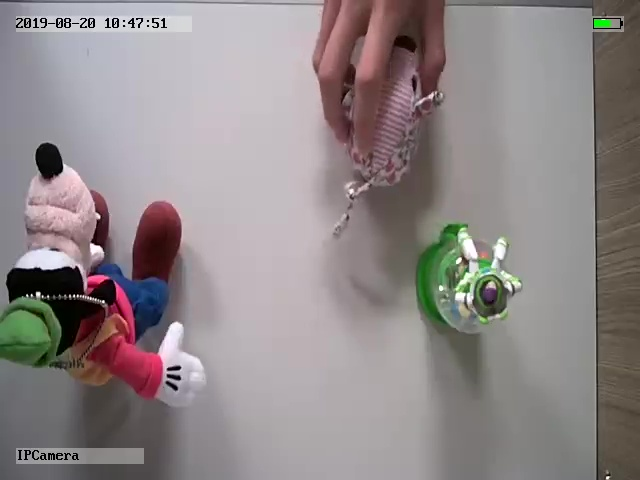buzz: (414, 222, 525, 332)
goofy: (1, 137, 209, 408)
pig: (326, 32, 443, 236)
